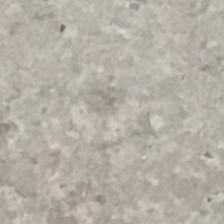Non_Crack: (46, 46, 178, 208)
